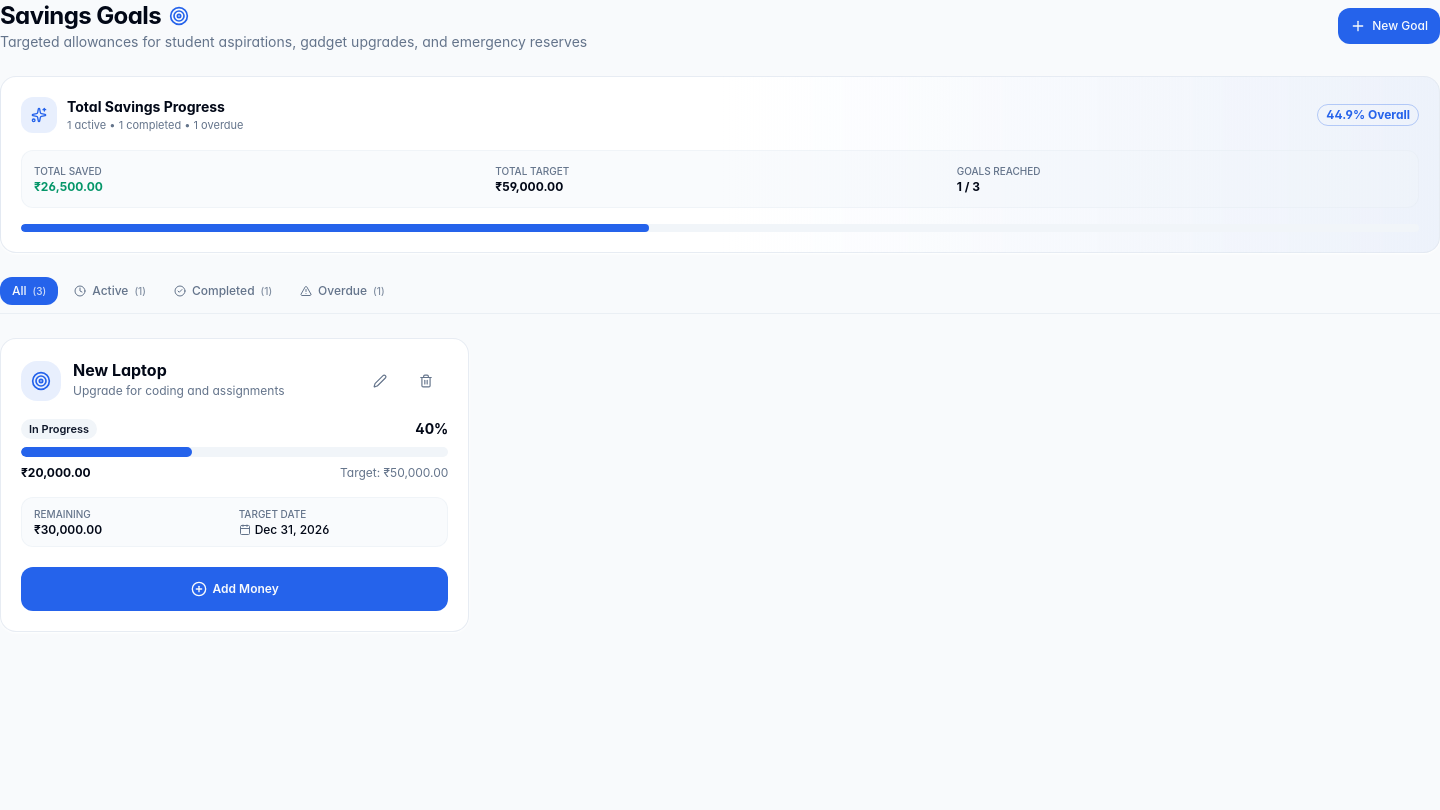
it: Phase 5: Financial Goals & Savings Targets › GoalsPage › opens create goal sheet when clicking New Goal button
The width and height of the screenshot is (1440, 810).
Expected: the heading "New Laptop" is shown, [73, 360, 167, 380]
Click the button "New Goal" at (1389, 26), box [1338, 8, 1439, 44]
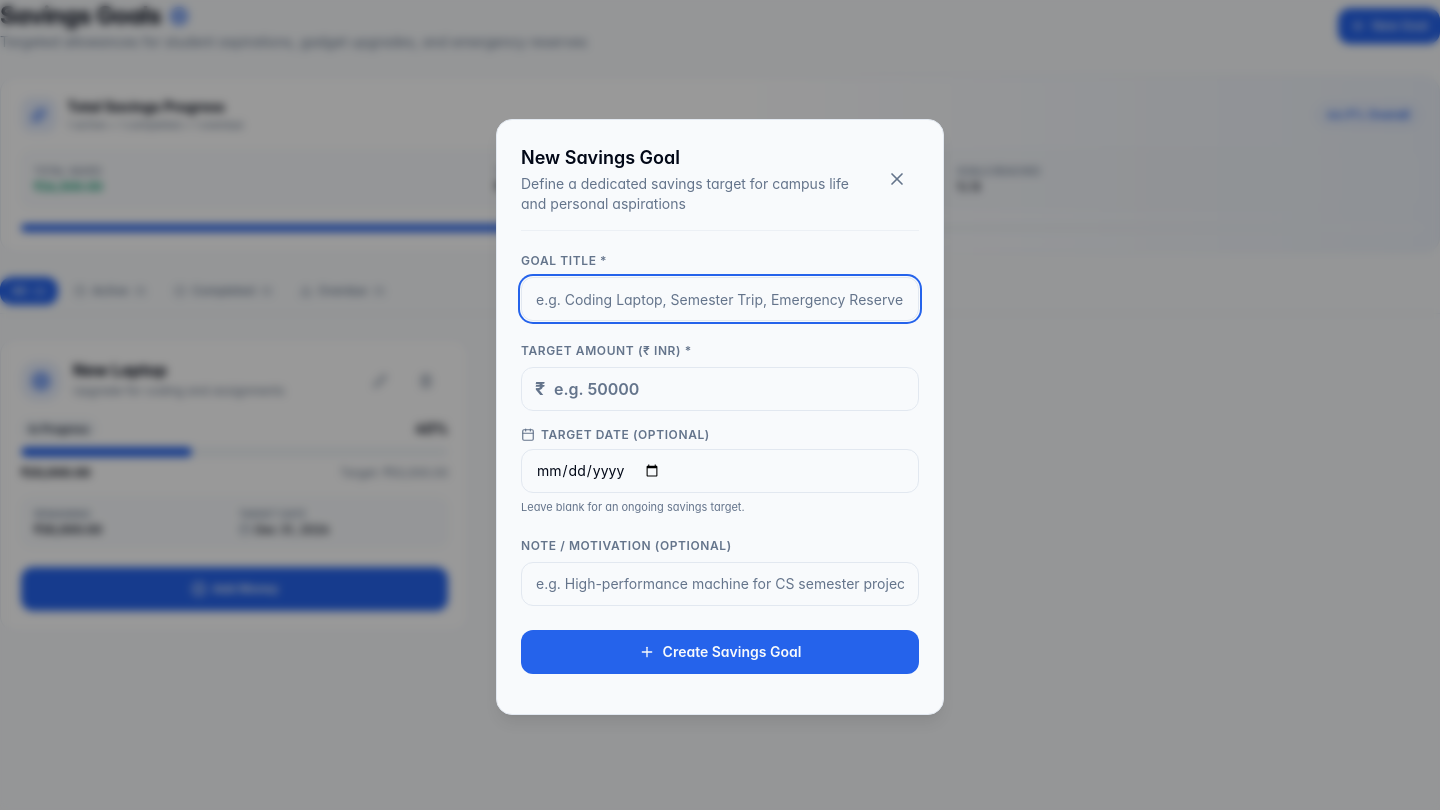
Expected: the heading "New Savings Goal" is shown, [521, 147, 680, 168]
Expected: the field labelled "Goal Title *" is shown, [521, 277, 919, 321]
